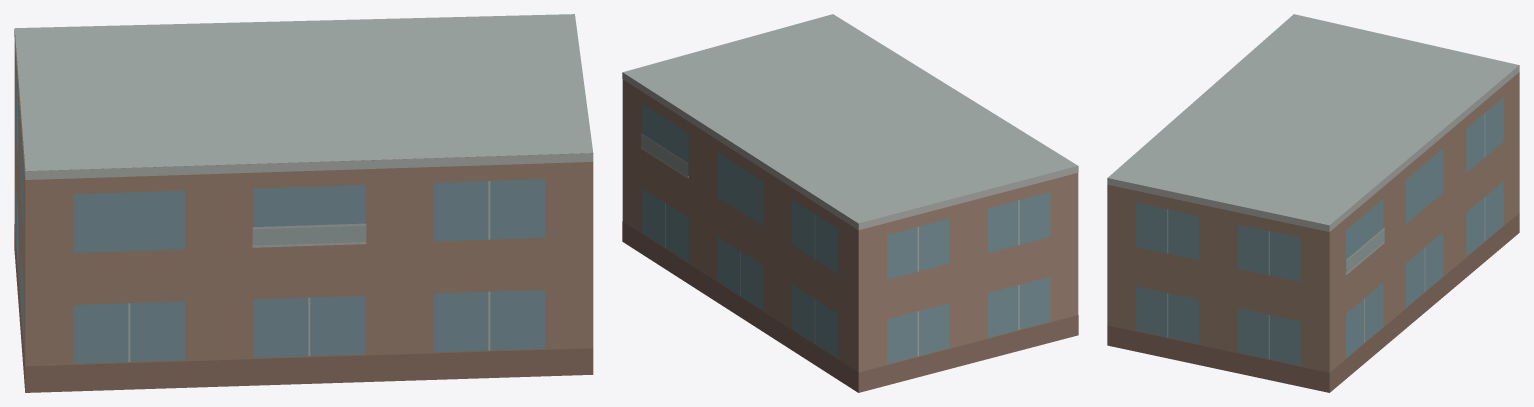
Rendered from survey-upis-32717917.glb.
The picture shows the model from 3 angles, left to right: view 1: azimuth 30°, elevation 25°; view 2: azimuth 150°, elevation 25°; view 3: azimuth 270°, elevation 25°; orthographic projection. The views are drawn at different scales.
Parts seen in each view (by area): view 1: survey-upis-32717917.tmp; view 2: survey-upis-32717917.tmp; view 3: survey-upis-32717917.tmp.
Part boxes in pixels (box(x1,y1,x2,y2)): survey-upis-32717917.tmp: box(14, 14, 593, 392); survey-upis-32717917.tmp: box(622, 14, 1078, 392); survey-upis-32717917.tmp: box(1107, 14, 1519, 392).
Size of the model in its own units: 16.52 by 6.1 by 13.61.
